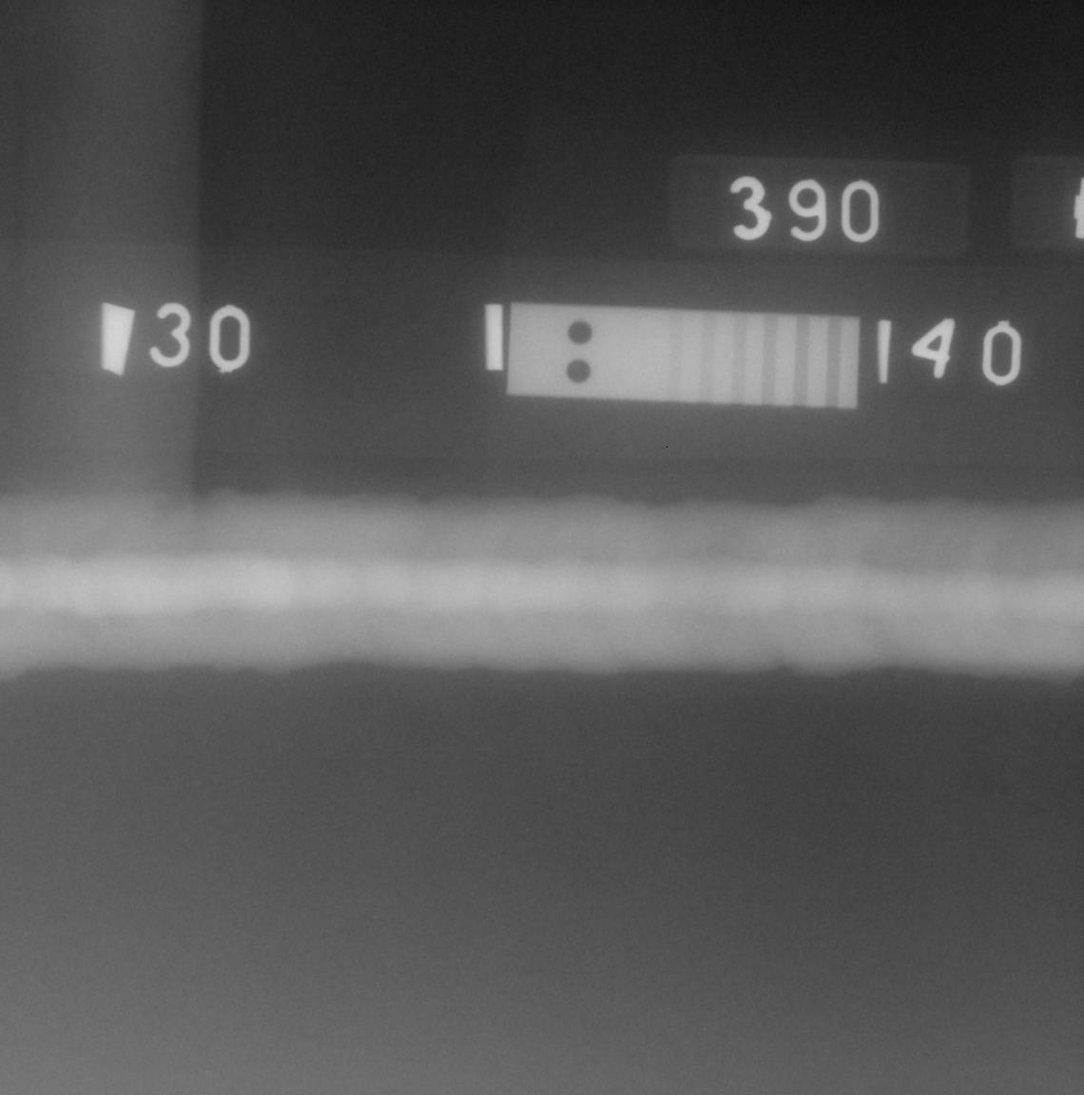Reference Standard 2: (507, 303, 859, 409)
